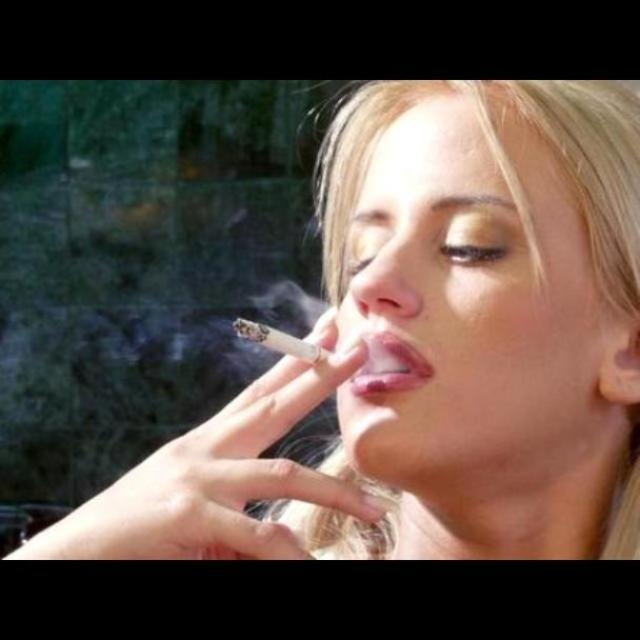rokok: (230, 310, 360, 380)
